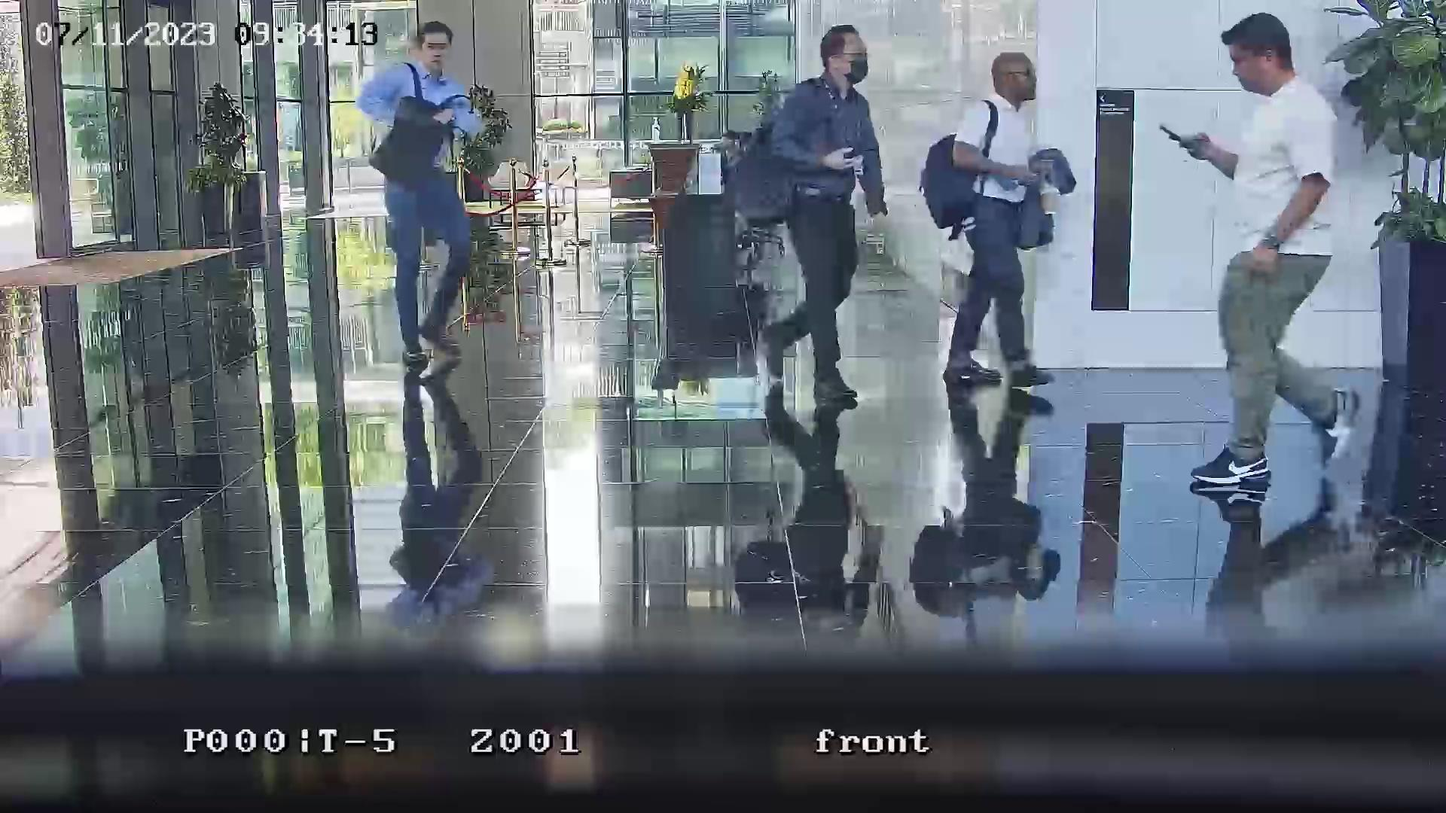person: (1161, 11, 1356, 510), (759, 23, 889, 405), (357, 19, 482, 377), (942, 50, 1064, 389)
